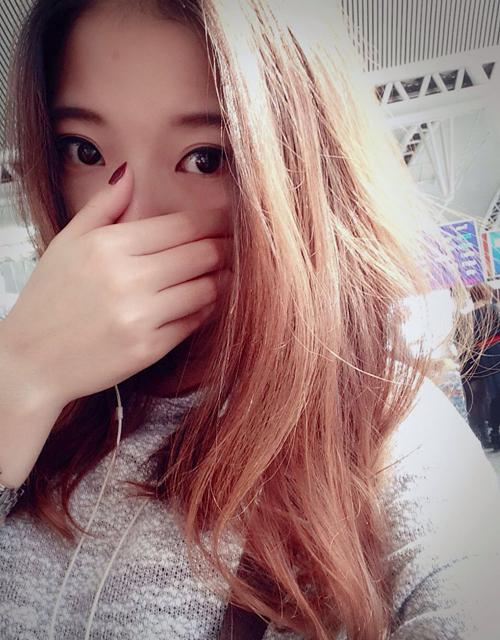face: (31, 1, 263, 382)
